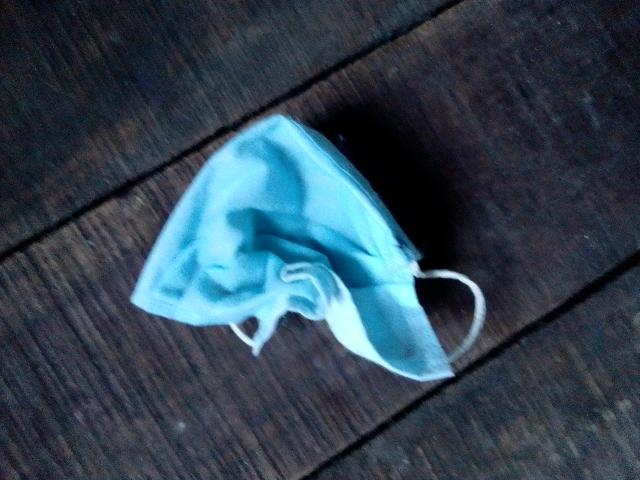mask: (121, 76, 509, 400)
